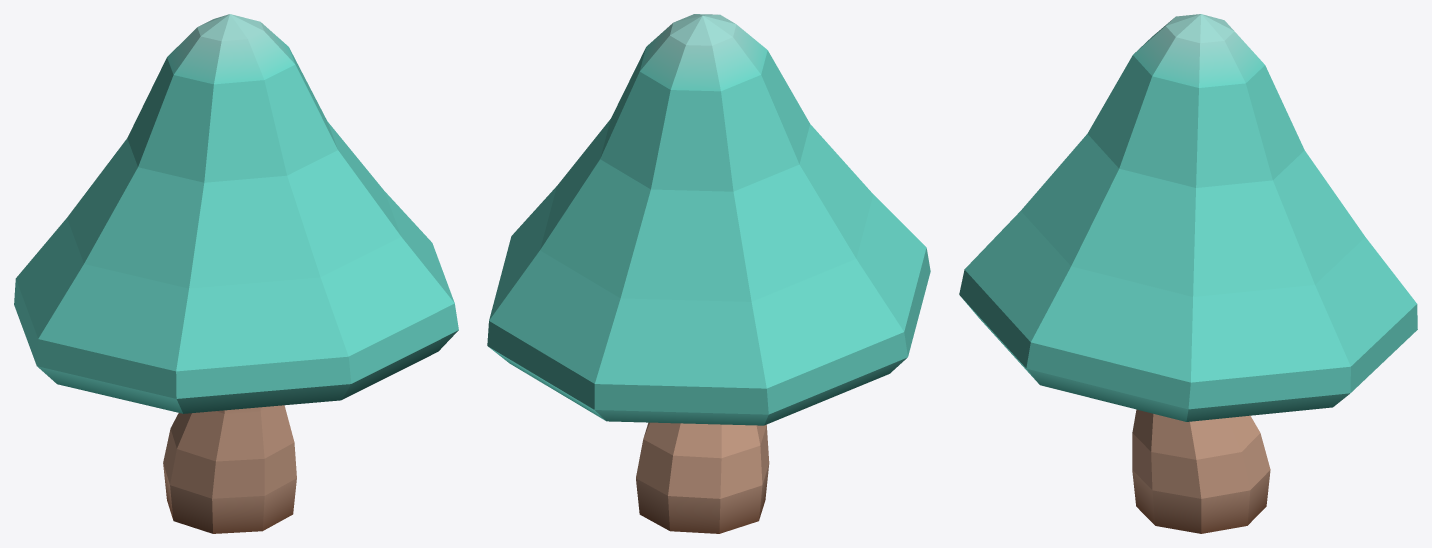
File: Mushroom 3.fbx
3 views of the same model, side by side, from view 1: azimuth 30°, elevation 25°; view 2: azimuth 150°, elevation 25°; view 3: azimuth 270°, elevation 25° (orthographic).
Parts seen in each view (by area): view 1: Mushroom 4; view 2: Mushroom 4; view 3: Mushroom 4.
Part boxes in pixels (x1,y1,x2,y2): Mushroom 4: [14, 14, 458, 533]; Mushroom 4: [487, 14, 930, 533]; Mushroom 4: [959, 14, 1417, 533].
Bounding box in the file's own units: 158 × 186 × 157.
